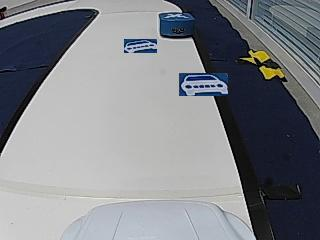prop: (159, 13, 195, 38)
